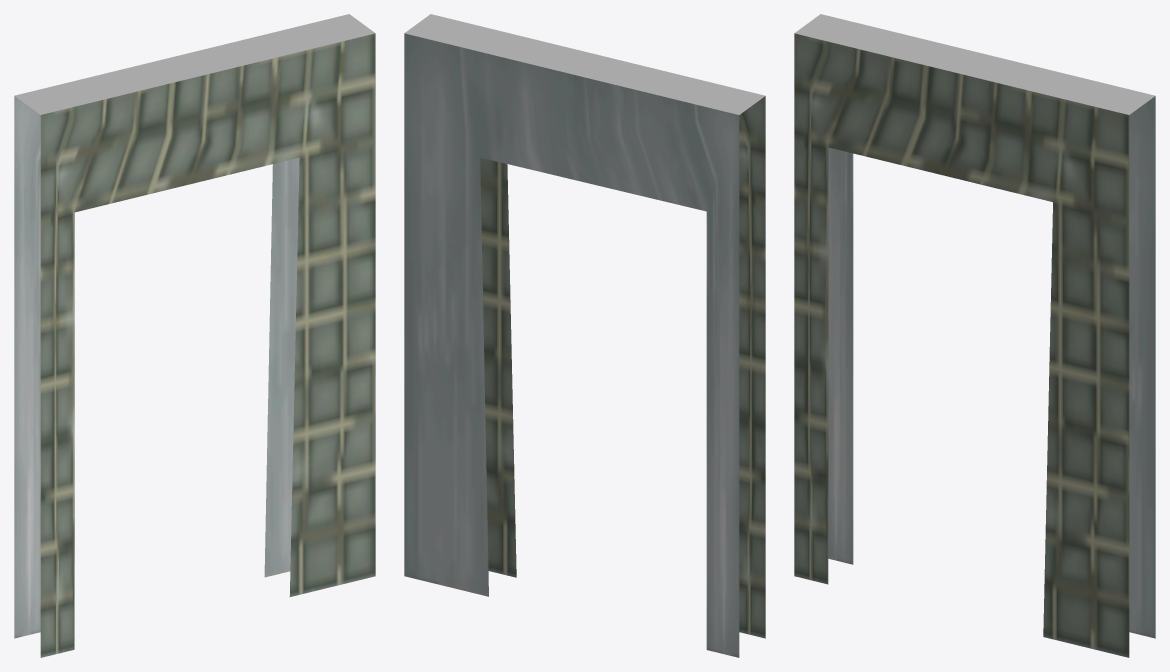
Rendered from W_I2_o [TürkiseFliesen]_1309.glb.
3 renders of one model, left to right at view 1: azimuth 30°, elevation 25°; view 2: azimuth 150°, elevation 25°; view 3: azimuth 330°, elevation 25°, orthographic.
Parts seen in each view (by area): view 1: pPlaneShape2, pPlaneShape3, pPlaneShape1; view 2: pPlaneShape3, pPlaneShape2, pPlaneShape1; view 3: pPlaneShape2, pPlaneShape3, pPlaneShape1.
Part boxes in pixels (x1,y1,x2,y2): pPlaneShape2: (40, 33, 375, 657); pPlaneShape3: (14, 96, 299, 638); pPlaneShape1: (14, 14, 375, 114); pPlaneShape3: (404, 33, 739, 657); pPlaneShape2: (480, 96, 765, 638); pPlaneShape1: (405, 14, 765, 114); pPlaneShape2: (794, 33, 1129, 657); pPlaneShape3: (828, 96, 1155, 638); pPlaneShape1: (795, 14, 1155, 114).
Size of the model in its own units: 0.2252 by 0.3486 by 0.0308.
Materials: 3 (2 with a texture image).
